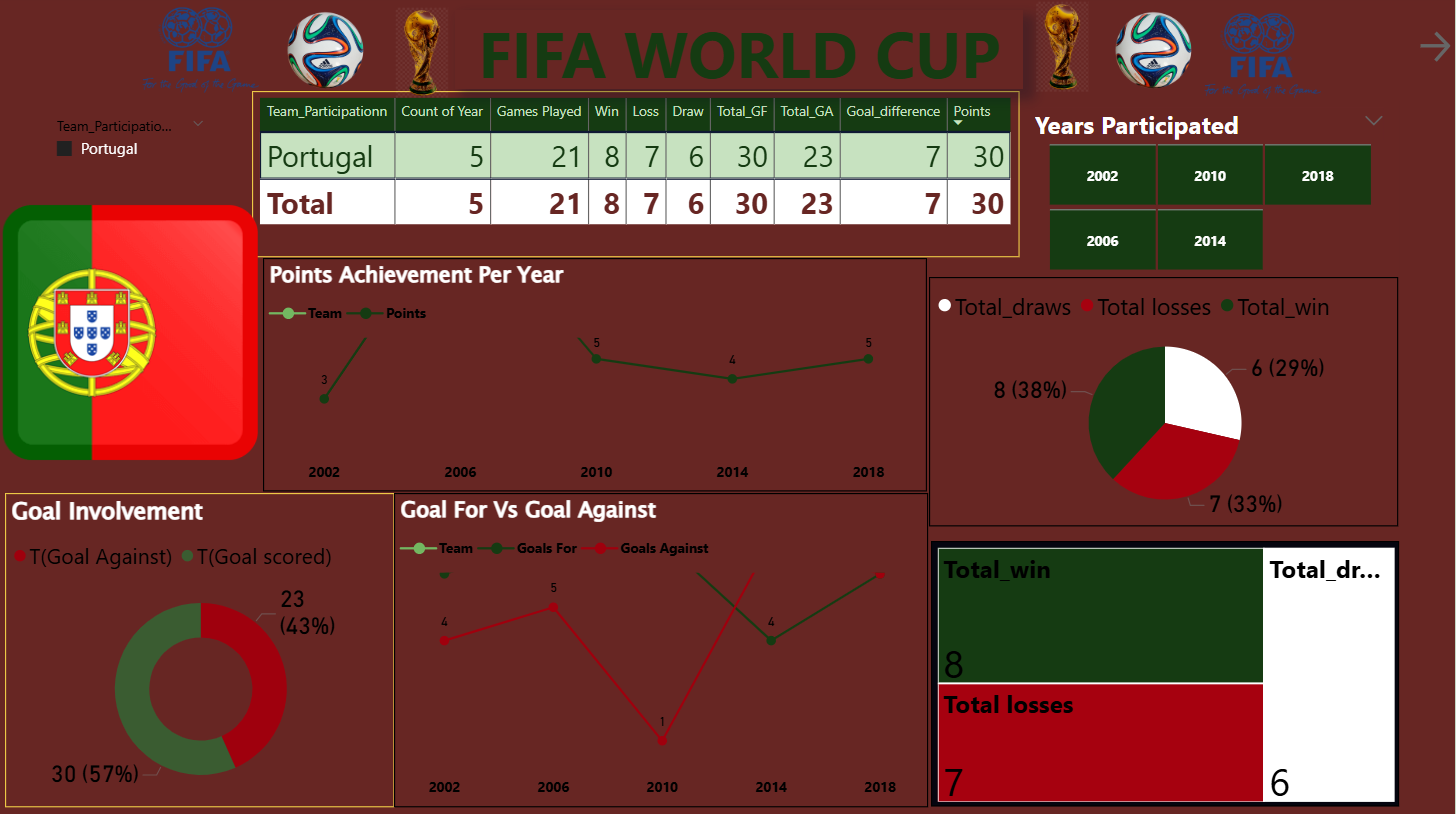

This screenshot's page, from the dashboard's own definition file:
{"tool":"powerbi","page":{"name":"Team Portugal","canvas":[1280,720],"ordinal":4},"visuals":[{"type":"slicer","fields":{"Values":["WC_02-20.Year"]},"box":[897.2,92,333.6,154.5],"z":0},{"type":"donutChart","title":"Goal Involvement","fields":{"Y":["DAX1.Total_GA","DAX1.Total_GF"]},"box":[6.6,436,341.9,275.8],"z":1000},{"type":"treemap","fields":{"Values":["DAX1.T(Draws)","DAX1.Total_win","DAX1.Total losses"]},"box":[819.9,478.2,410.8,233.3],"z":2000},{"type":"lineChart","title":"Goal For Vs Goal Against","fields":{"Category":["WC_02-20.Year"],"Y2":["Sum(WC_02-20.Goals For)","Sum(WC_02-20.Goals Against)"],"Y":["CountNonNull(Team.Team_Participationn)"]},"box":[348.5,436,469.1,275.8],"z":3000},{"type":"tableEx","fields":{"Values":["Team.Team_Participationn","CountNonNull(WC_02-20.Year)","Sum(WC_02-20.Games Played)","Sum(WC_02-20.Win)","Sum(WC_02-20.Loss)","Sum(WC_02-20.Draw)","DAX1.Total_GF","DAX1.Total_GA","DAX1.Goal_difference","Sum(WC_02-20.Points)"]},"box":[223.5,83.8,673.7,146.2],"z":4000},{"type":"textbox","title":"FIFA WORLD CUP","box":[401.7,12.7,499.3,69.3],"z":5000},{"type":"image","box":[817.6,0,236.2,89.1],"z":6000},{"type":"image","box":[236.2,5.7,273,89.1],"z":7000},{"type":"image","box":[123.1,0,111.7,94.8],"z":8000},{"type":"image","box":[1055.2,5.7,111.7,94.8],"z":9000},{"type":"image","box":[239.1,0,99,94.8],"z":10000},{"type":"image","box":[966.1,0,99,94.8],"z":11000},{"type":"actionButton","box":[1244,24.6,36,39.3],"z":12000},{"type":"pieChart","fields":{"Y":["DAX1.T(Draws)","DAX1.Total losses","DAX1.Total_win"]},"box":[818.3,246.5,412.4,218.5],"z":13000},{"type":"lineChart","title":"Points Achievement Per Year","fields":{"Category":["WC_02-20.Year"],"Y":["CountNonNull(Team.Team_Participationn)"],"Y2":["Sum(WC_02-20.Points)"]},"box":[233.3,230,583.3,205.4],"z":14000},{"type":"slicer","fields":{"Values":["Team.Team_Participationn"]},"box":[39.5,100.1,154.5,80.8],"z":15000},{"type":"image","box":[0,169.5,233.6,252],"z":15001}]}

Visuals, with their boxes in screenshot pixels (x1, y1, x2, y2), scaled from the page's 1280x720 canvas onto the 1456x814 screenshot:
slicer - WC_02-20.Year: 1021,104,1400,279
"Goal Involvement" donutChart: 8,493,396,805
treemap - DAX1.T(Draws) x DAX1.Total_win: 933,541,1400,804
"Goal For Vs Goal Against" lineChart: 396,493,930,805
tableEx - Team.Team_Participationn x CountNonNull(WC_02-20.Year): 254,95,1021,260
"FIFA WORLD CUP" textbox: 457,14,1025,93
image: 930,0,1199,101
image: 269,6,579,107
image: 140,0,267,107
image: 1200,6,1327,114
image: 272,0,385,107
image: 1099,0,1212,107
actionButton: 1415,28,1455,72
pieChart - DAX1.T(Draws) x DAX1.Total losses: 931,279,1400,526
"Points Achievement Per Year" lineChart: 265,260,929,492
slicer - Team.Team_Participationn: 45,113,221,205
image: 0,192,266,477
